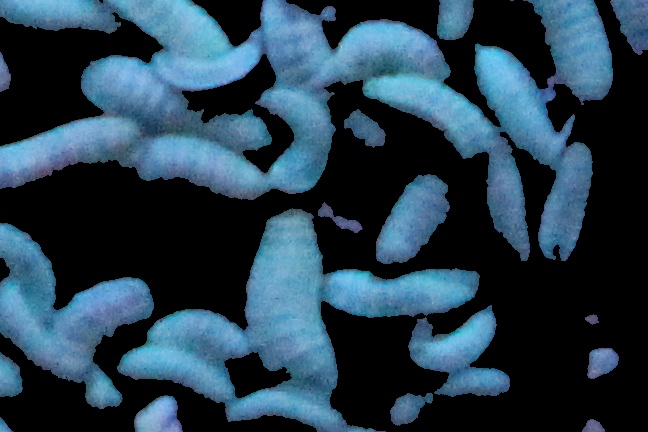larvae: (246, 212, 340, 388), (88, 70, 250, 142), (63, 1, 222, 67), (1, 118, 135, 195), (378, 68, 488, 156), (71, 281, 147, 404), (265, 3, 335, 130), (140, 142, 267, 208), (531, 1, 615, 100), (381, 163, 457, 271), (322, 268, 481, 316), (3, 289, 89, 374), (486, 50, 553, 153), (123, 346, 235, 399), (491, 145, 540, 265), (162, 31, 261, 89), (334, 26, 442, 76), (544, 137, 591, 248), (150, 310, 245, 361), (271, 99, 321, 191), (422, 314, 499, 373), (1, 226, 53, 291), (1, 1, 93, 35), (439, 1, 508, 38), (1, 352, 34, 406)
